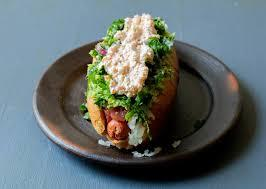Completos: (86, 11, 175, 147)
